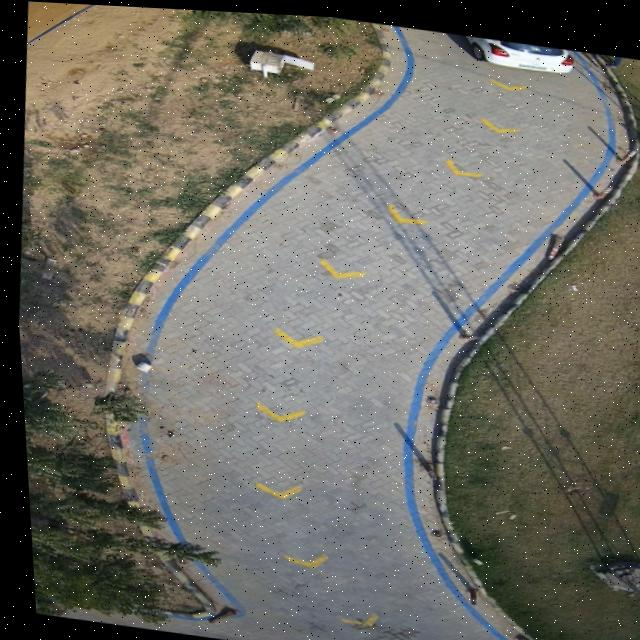car: (467, 31, 573, 67)
